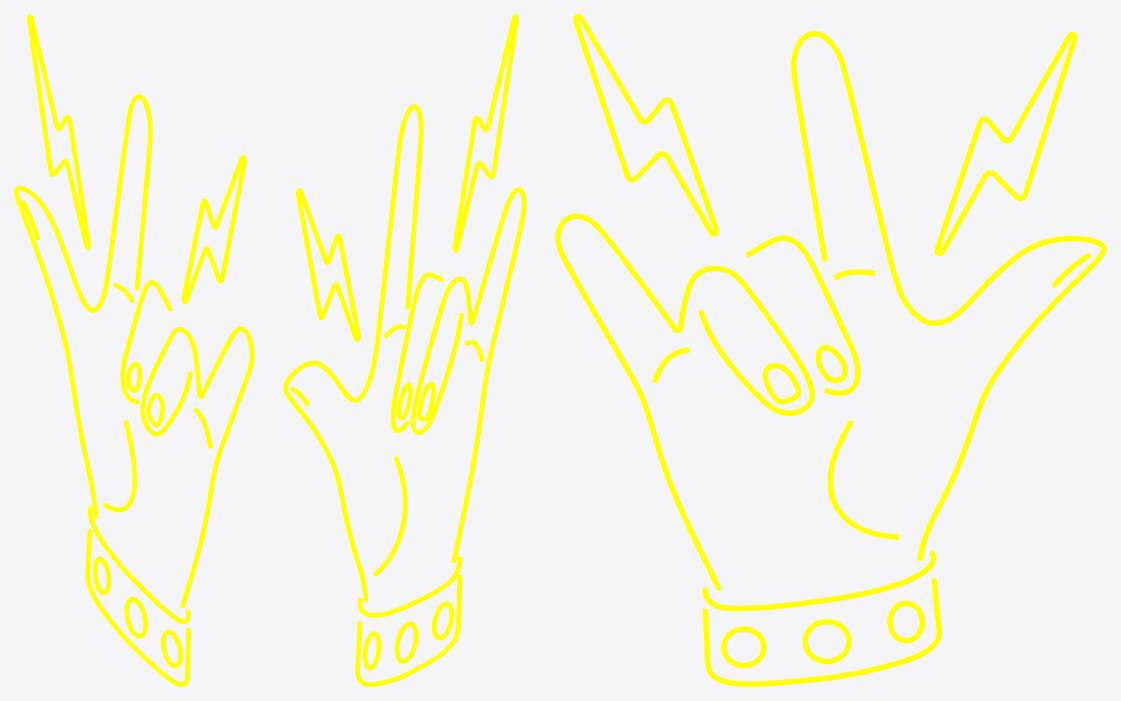
File: PunkRockNeon.fbx
3 renders of one model, left to right at view 1: azimuth 30°, elevation 25°; view 2: azimuth 150°, elevation 25°; view 3: azimuth 270°, elevation 25°, orthographic. The views are drawn at different scales.
Parts seen in each view (by area): view 1: Vert; view 2: Vert; view 3: Vert.
Part boxes in pixels (x1,y1,x2,y2): Vert: [14, 14, 254, 686]; Vert: [283, 14, 526, 686]; Vert: [555, 14, 1106, 686].
Size of the model in its own units: 2 by 268 by 199.
